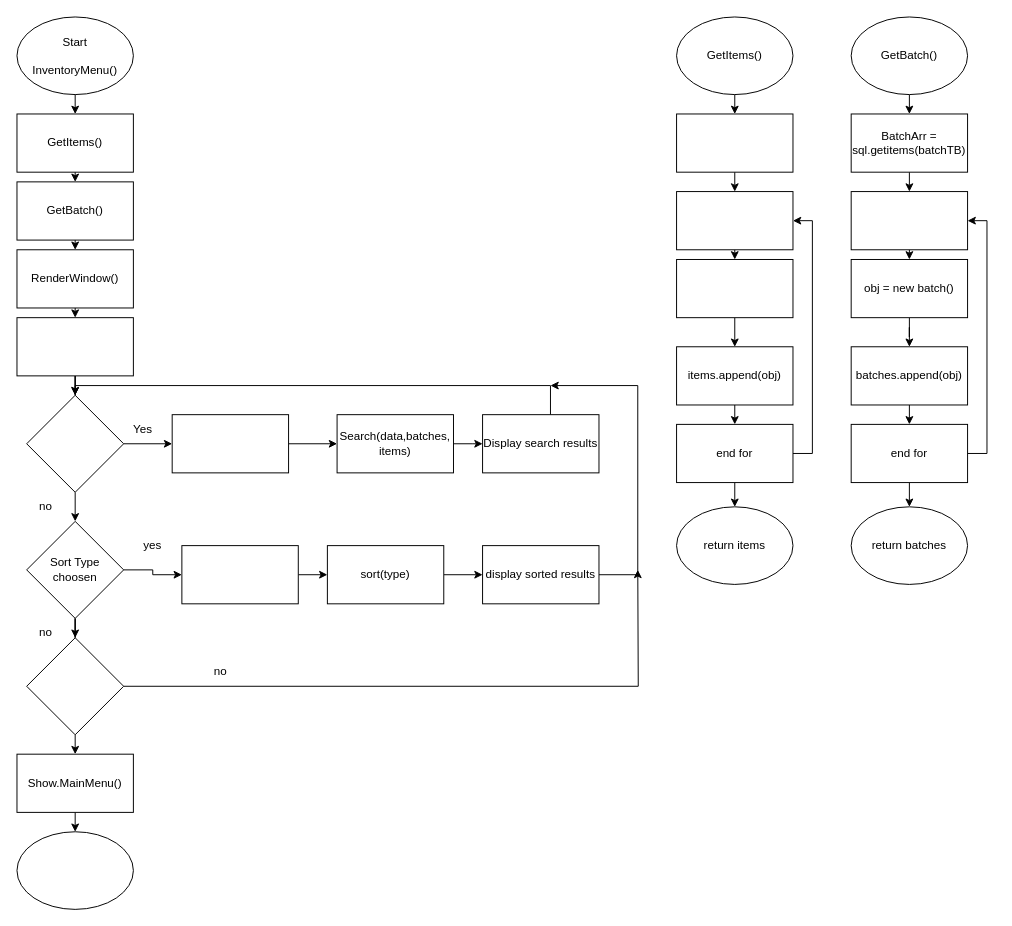
This 1012x926 diagram has some shape labels left out. The centre of each missing label's shape, as x and y in pixels:
"Back button pressed" belongs at pixel 75 686.
"Display Batches" belongs at pixel 74 346.
"End Destory(self)" belongs at pixel 74 870.
"for i in itemsarr" belongs at pixel 734 220.
"for j in batcharr" belongs at pixel 909 220.
"Get Search data" belongs at pixel 230 443.
"get sort type" belongs at pixel 239 574.
"itemsarr = sql.getitems(itemsTB)" belongs at pixel 734 142.
"obj = new item(i)" belongs at pixel 734 288.
"Search button pressed" belongs at pixel 75 443.
